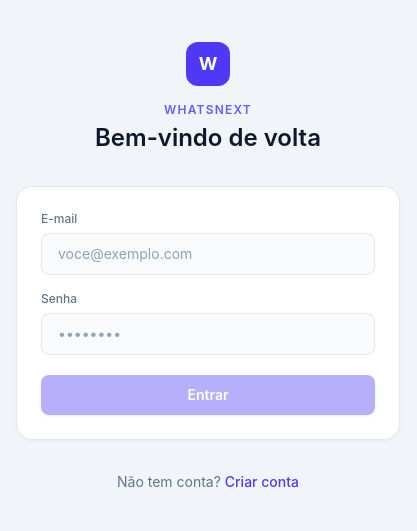
LoginScreen › mostra mensagem de erro quando o login falha
Type "marcelo@example.com" into the field labelled "E-mail" at (208, 254), box [41, 233, 375, 275]
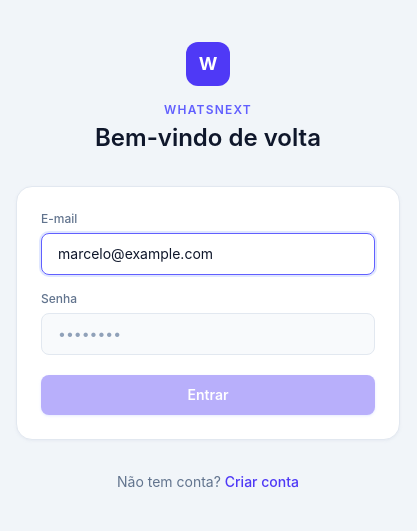
Type "senha-errada" into the password field labelled "Senha" at (208, 334), box [41, 313, 375, 355]
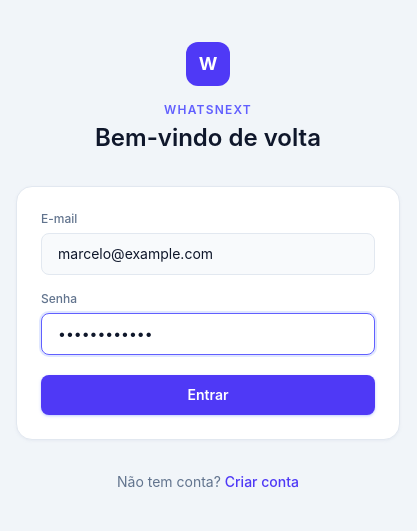
Click the button "Entrar" at (208, 395), box [41, 375, 375, 415]
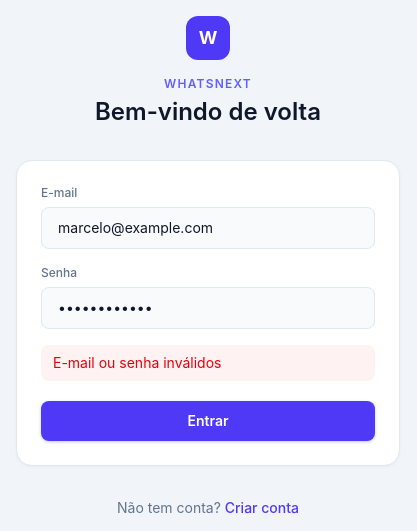
Now the text "E-mail ou senha inválidos" is shown, box [41, 345, 375, 381]
